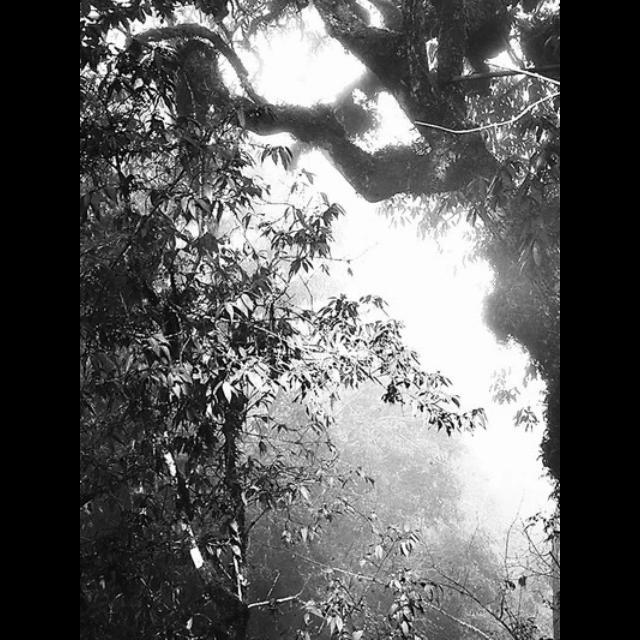fallen_tree: (80, 2, 538, 220)
